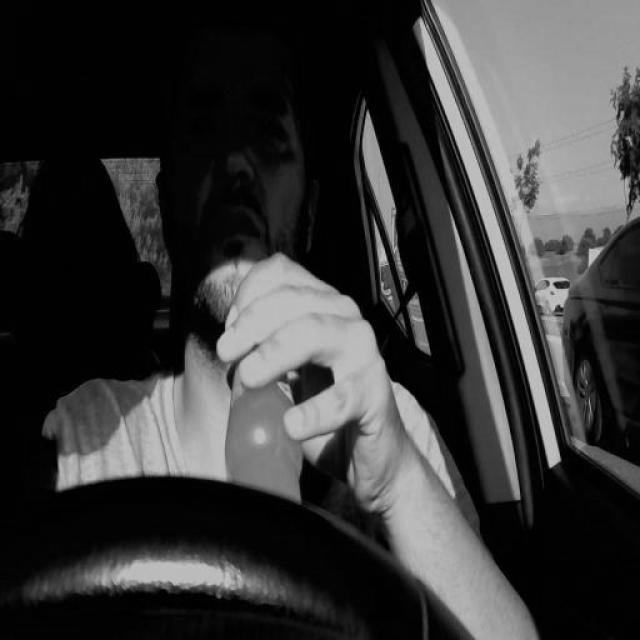Drinking: (225, 308, 336, 493)
